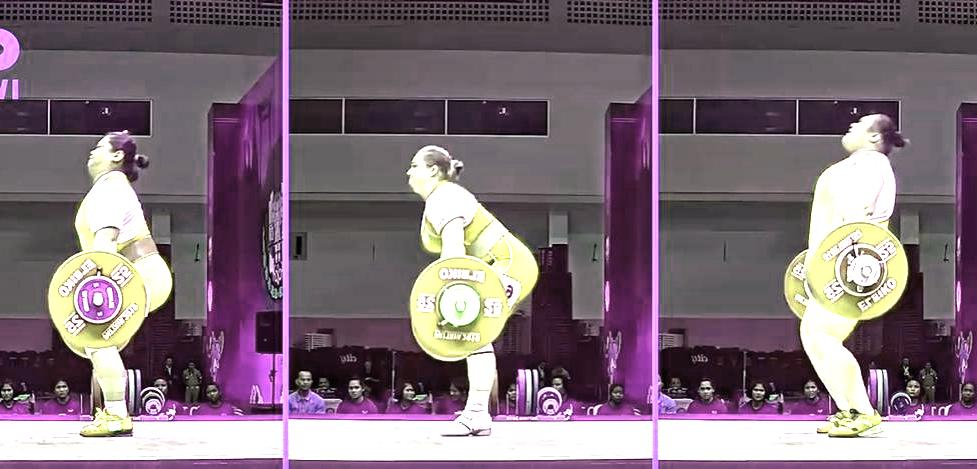Barbell: (89, 291, 106, 311), (449, 297, 466, 316), (857, 263, 874, 279)
